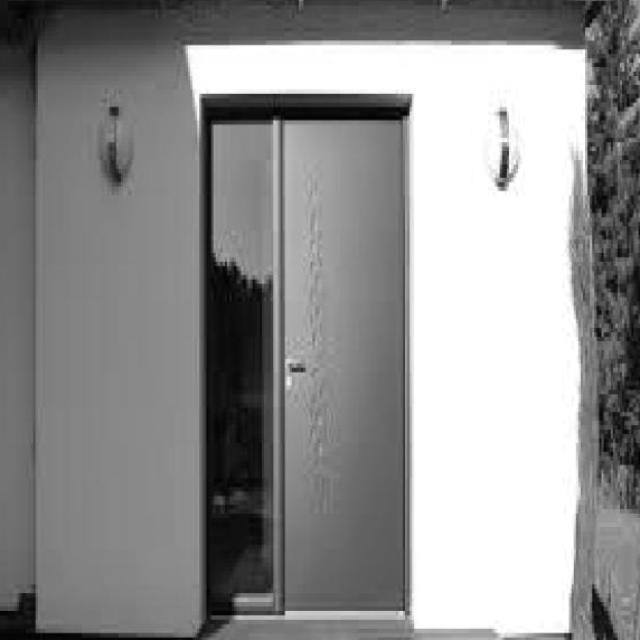door: (268, 98, 412, 622)
